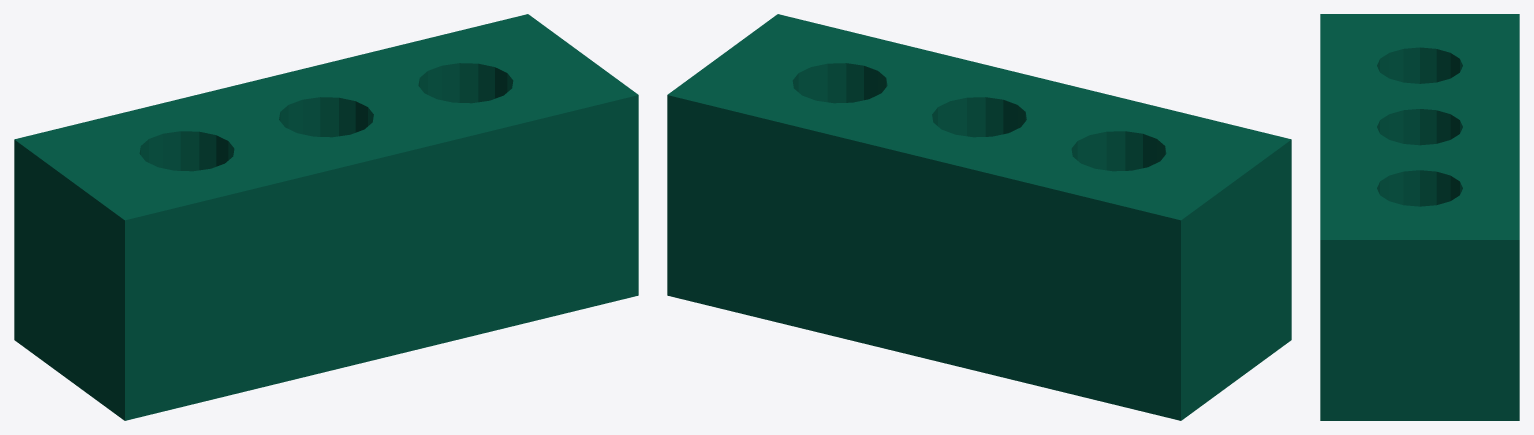
The model's file is simple_table.fbx.
3 renders of one model, left to right at view 1: azimuth 30°, elevation 25°; view 2: azimuth 150°, elevation 25°; view 3: azimuth 270°, elevation 25°, orthographic. The views are drawn at different scales.
Visible parts, largest first — view 1: Cube; view 2: Cube; view 3: Cube.
Part boxes in pixels (bbox=[...]): Cube: bbox=[14, 14, 638, 420]; Cube: bbox=[667, 14, 1291, 420]; Cube: bbox=[1320, 14, 1519, 420].
Size of the model in its own units: 198 by 74 by 74.
